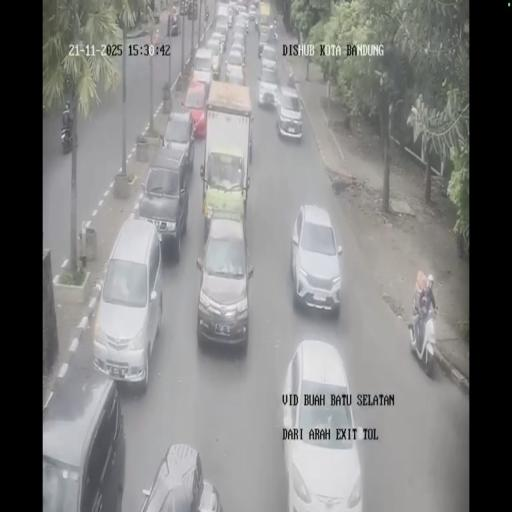car: (283, 338, 362, 508), (40, 368, 124, 510), (93, 216, 163, 386), (195, 216, 253, 348), (290, 202, 343, 316), (138, 160, 190, 257), (160, 109, 196, 174), (276, 86, 302, 142), (192, 47, 216, 90), (258, 64, 280, 108), (225, 51, 245, 83), (214, 5, 230, 41), (207, 31, 224, 59), (167, 12, 180, 36), (236, 12, 248, 34), (226, 5, 236, 26), (248, 3, 256, 21), (236, 1, 246, 14)
motorcycle: (270, 18, 278, 40)
truck: (202, 80, 254, 233), (258, 0, 272, 35)
